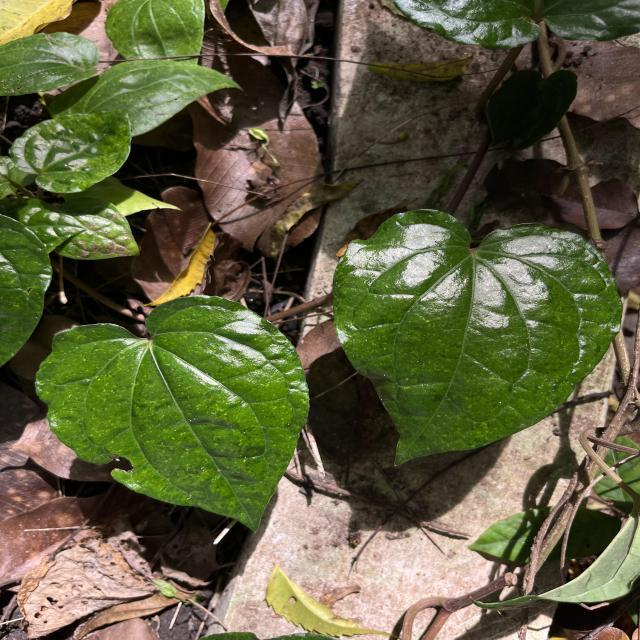Piper betle: (328, 205, 626, 470), (30, 292, 313, 538)
